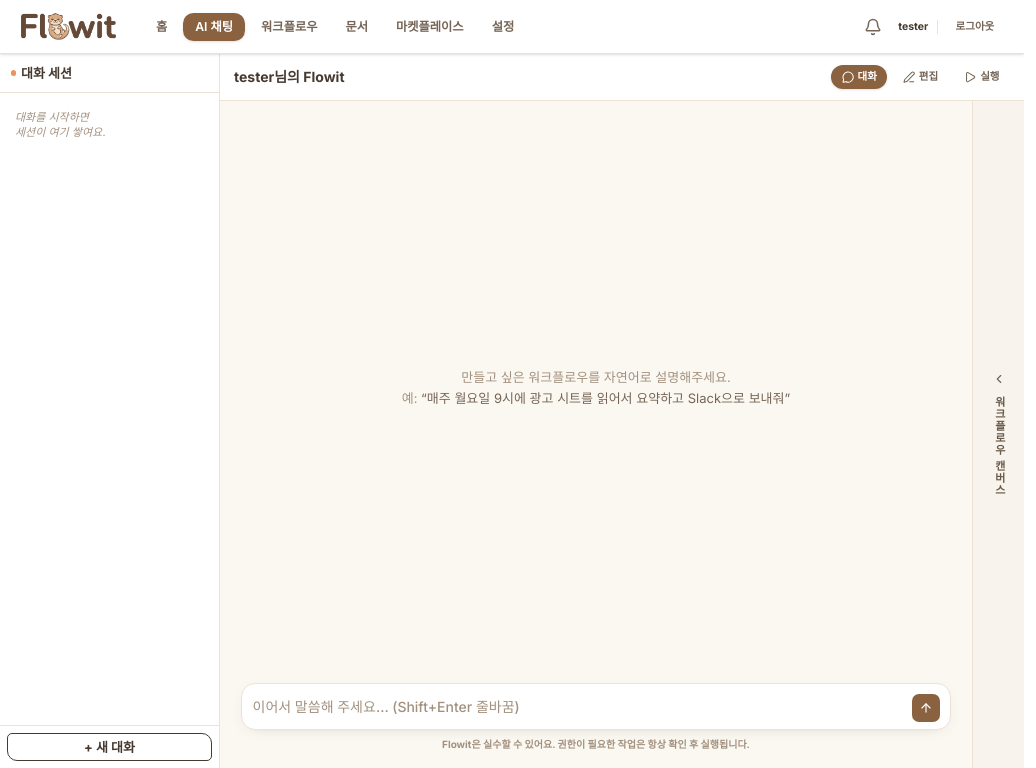
AgentPage — handleSend SSE 연동 › 전송한 메시지가 채팅에 표시된다
Type "테스트 메시지" into the text box with placeholder "이어서 말씀해 주세요… (Shift+Enter 줄바꿈)".
click(578, 706); type("테스트 메시지")  # box [252,691,904,722]
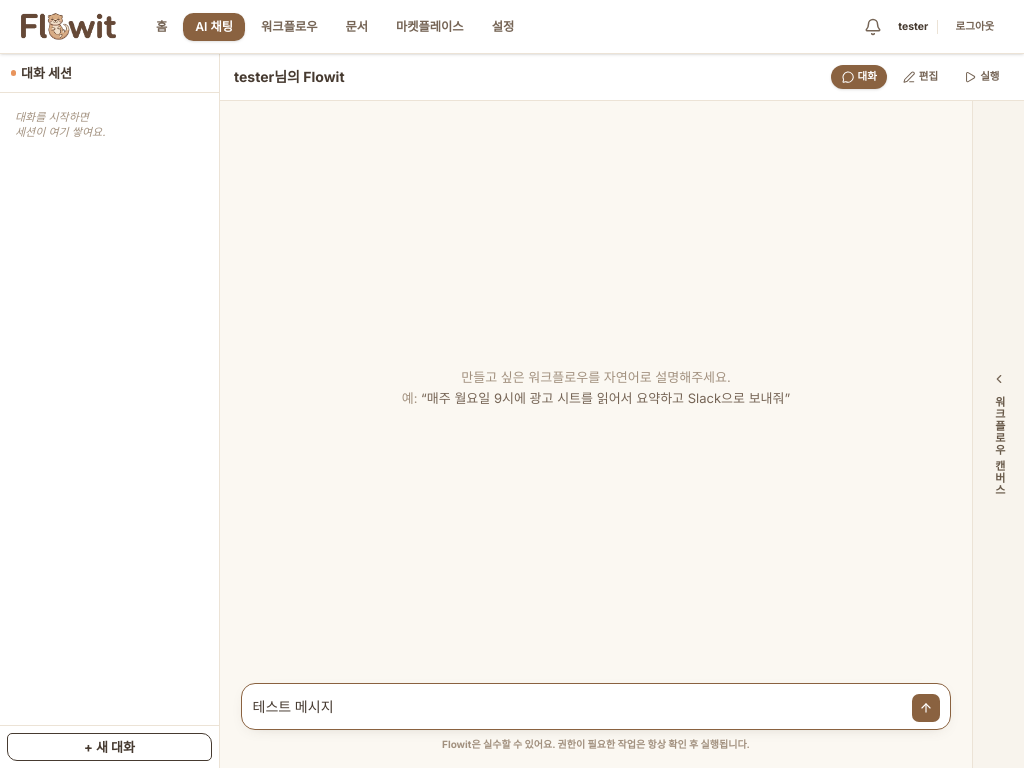
Click the button named "전송".
click(926, 708)  # box [912,694,940,722]
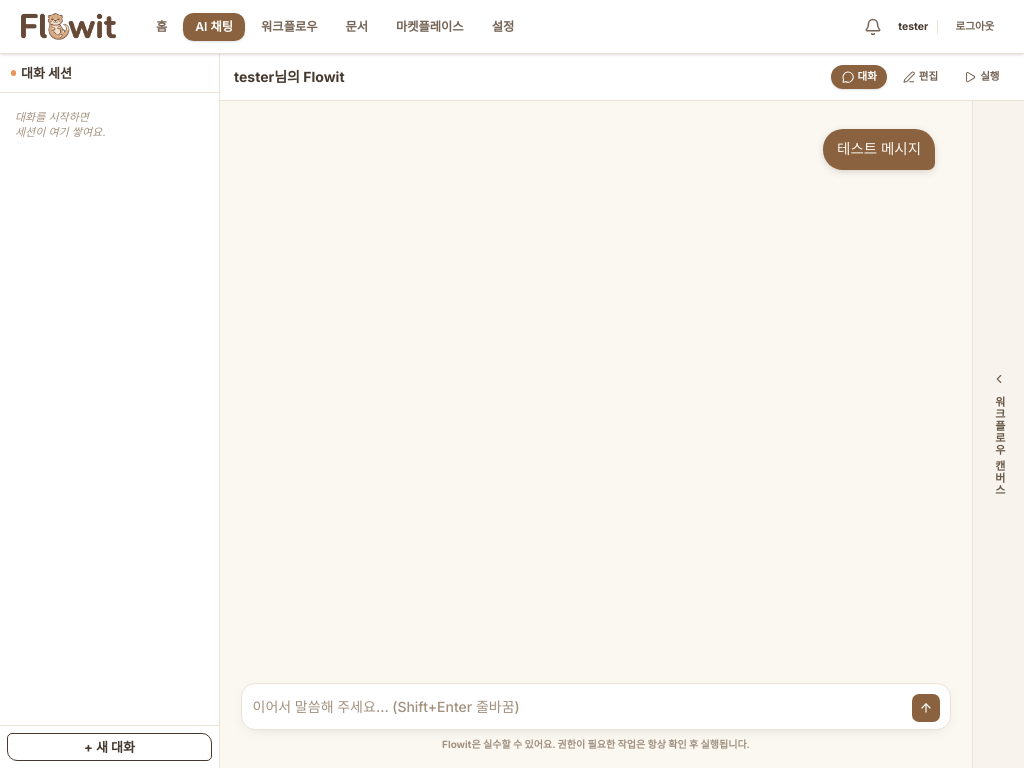
Check: the text "테스트 메시지" is shown, box [823,128,935,170]
